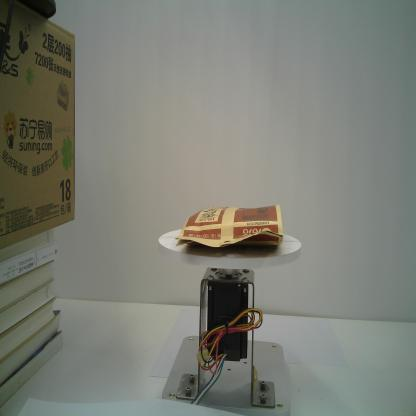Dried Food: (174, 203, 284, 251)
